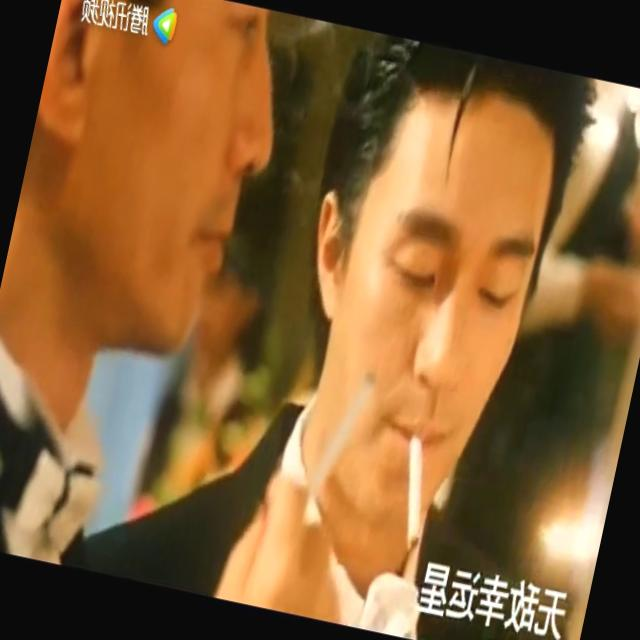cigarette: (386, 436, 442, 552)
